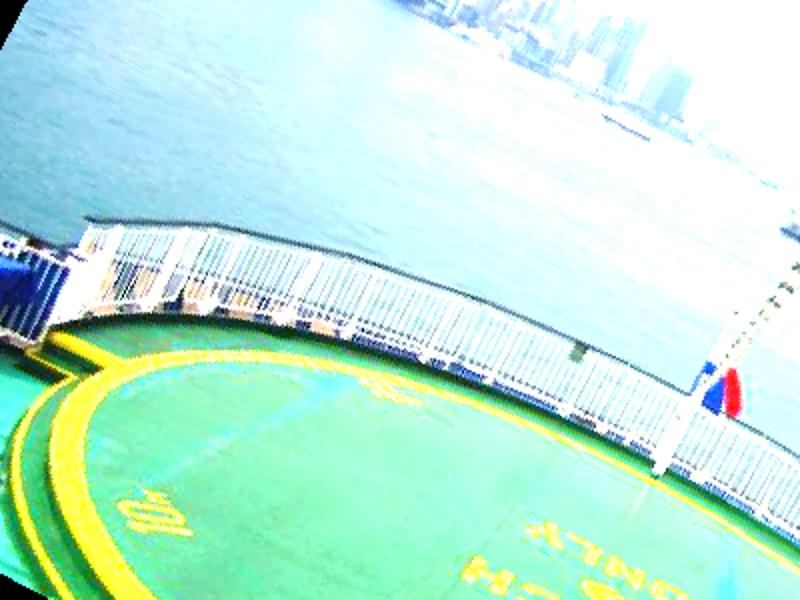Apron: (45, 328, 800, 600)
